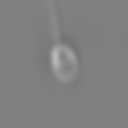normal: (27, 1, 71, 41)
